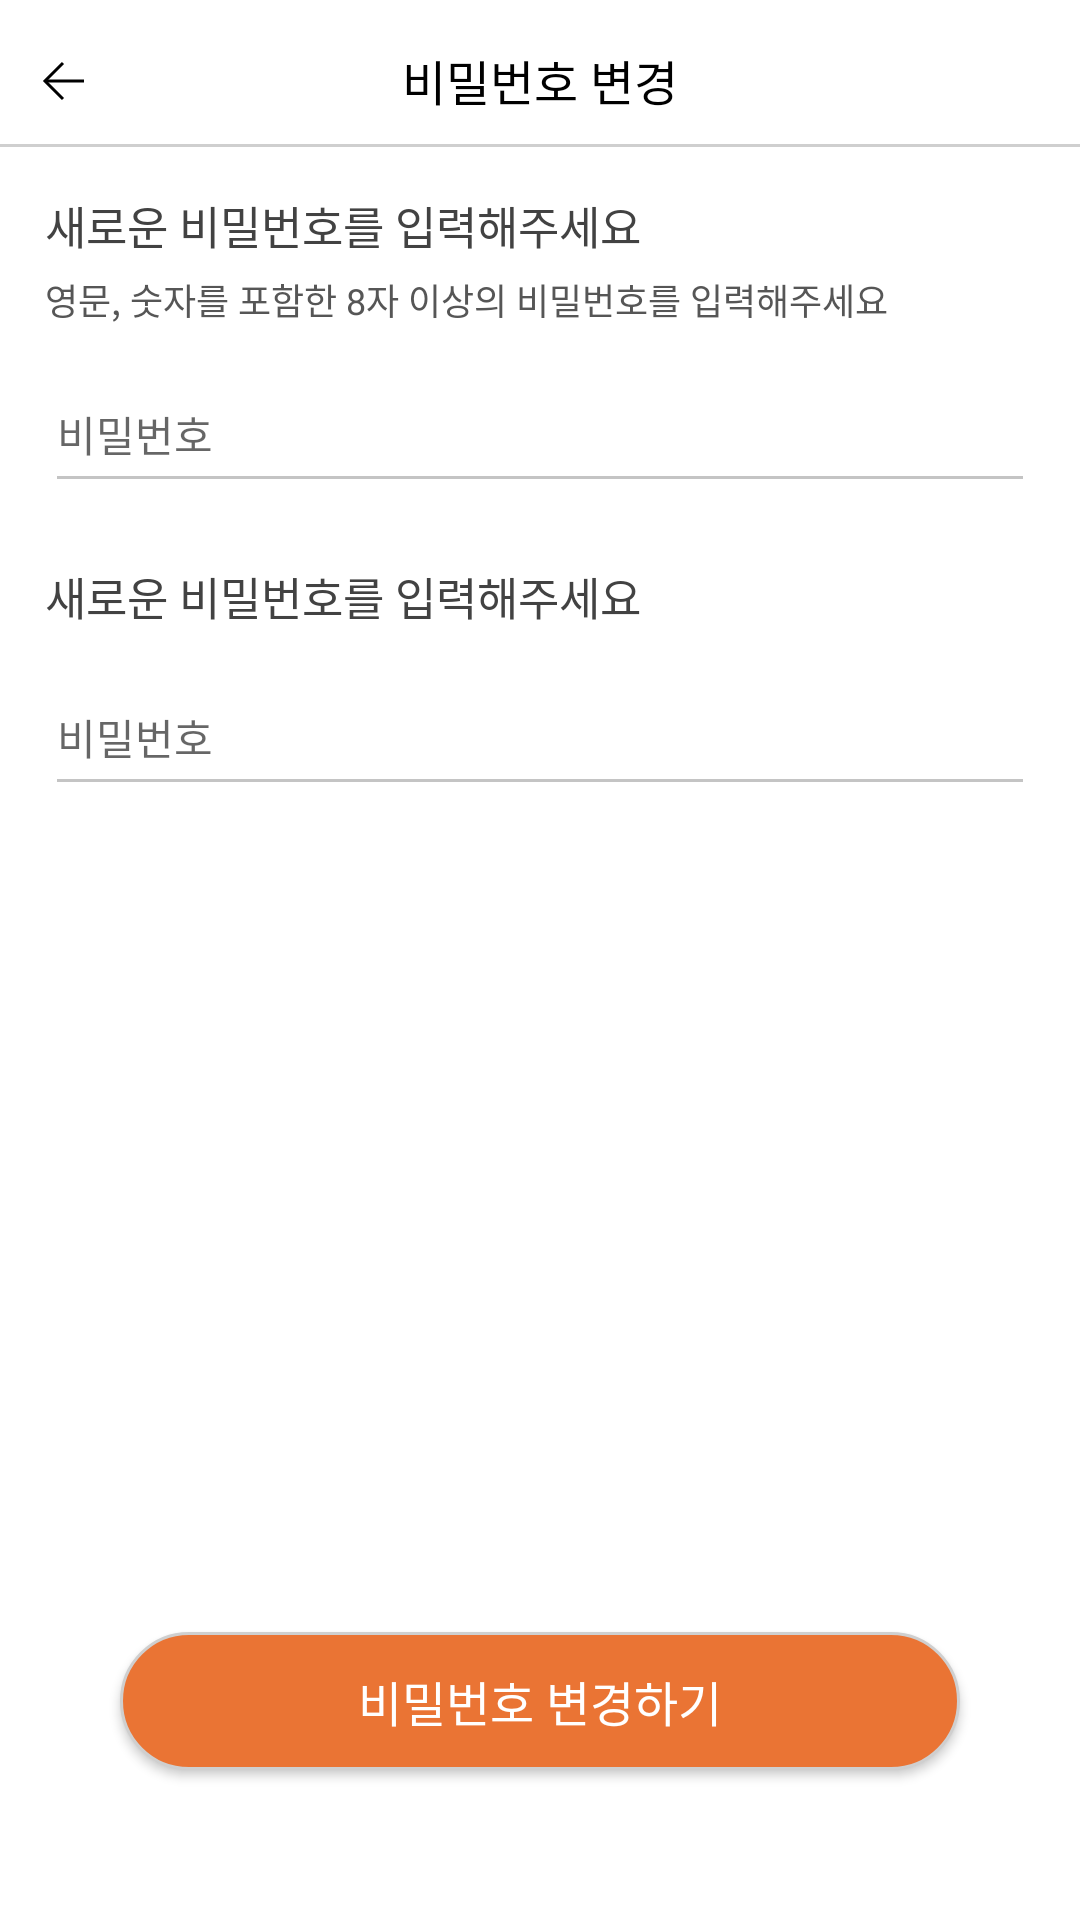

Named icons in this screenshot (1080 x 1920) and their bounding boxes, [left=x1, top=y1, right=x2, bottom=y2]:
back arrow: [left=43, top=62, right=84, bottom=100]
